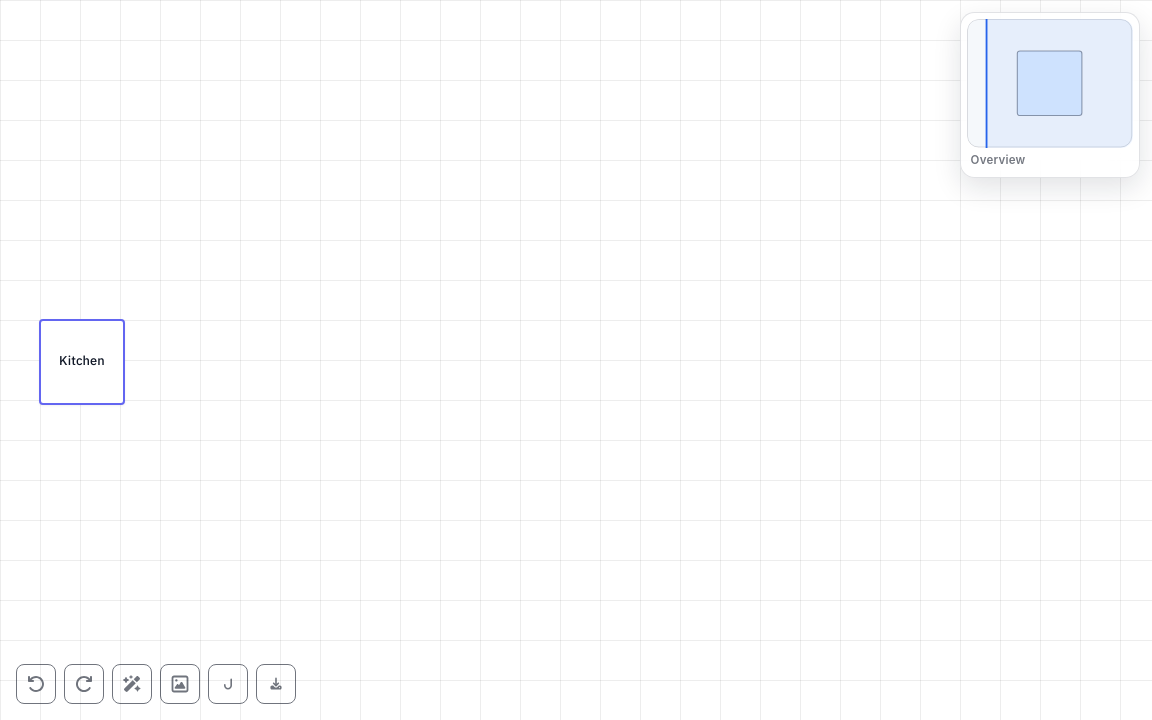
Test: MapCanvas › room rendering › opens the room editor for a single selected room when Enter is pressed
Press the mouse on the button "Kitchen" at (82, 362), box x1=40 y1=320 x2=124 y2=404
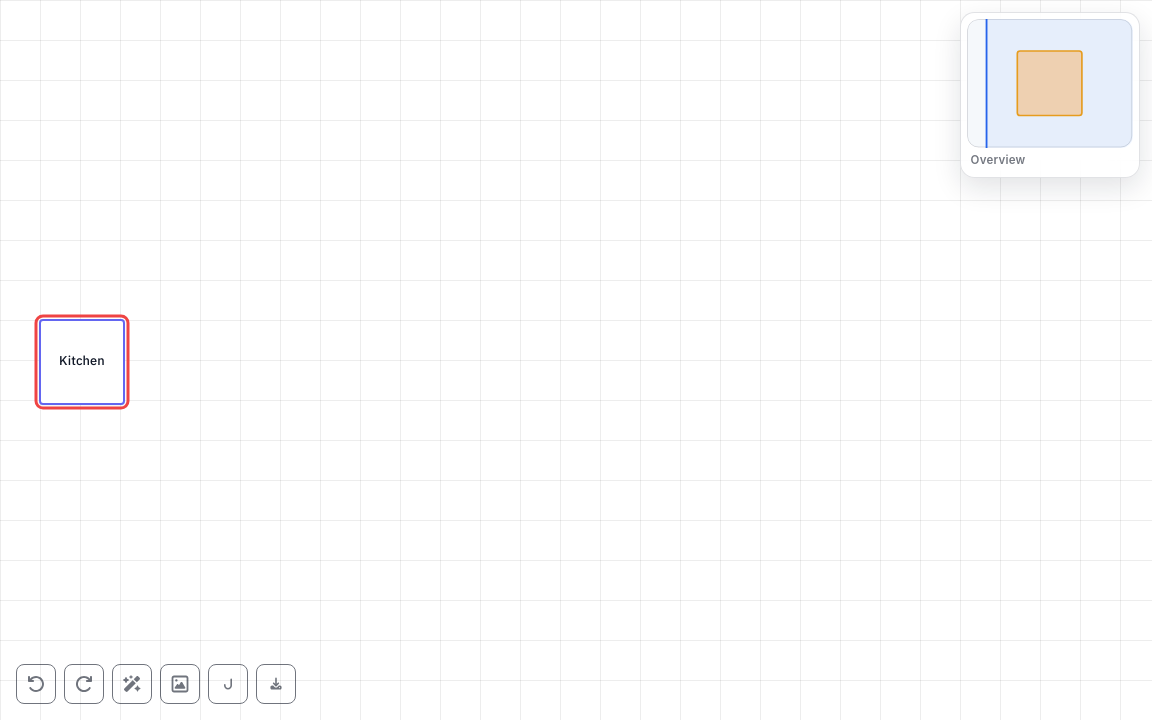
Press Enter in the element with test id "map-canvas"
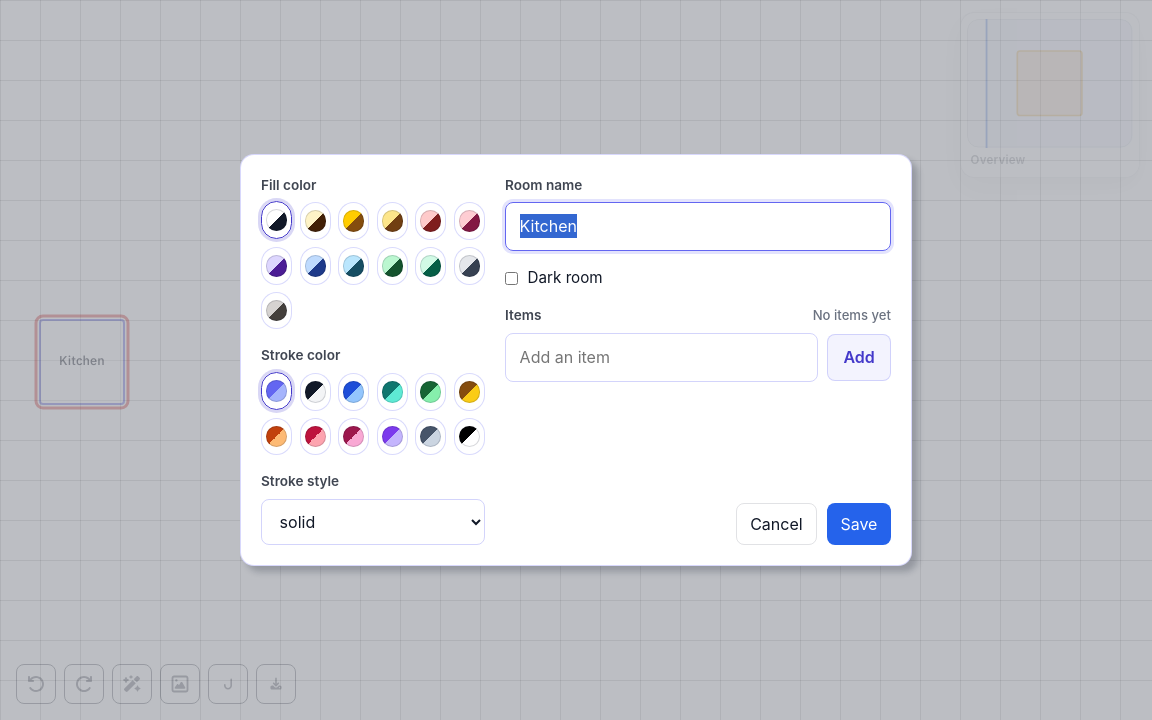
Expected: the element with test id "room-editor-overlay" is shown
